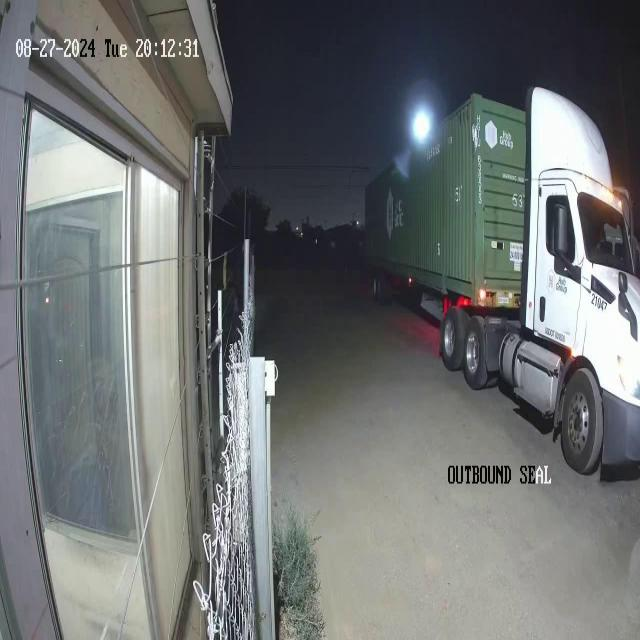TRUCK_IN: (364, 84, 639, 480)
